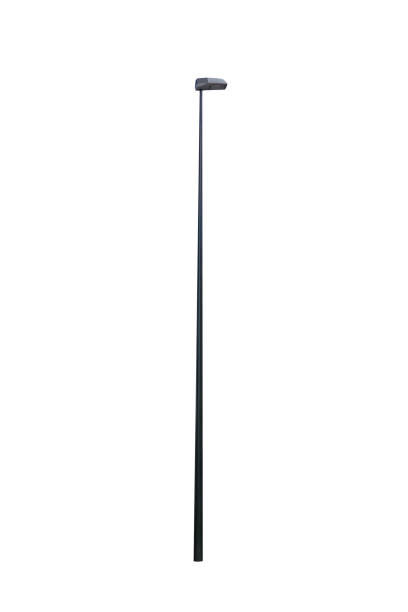light_pole: (191, 122, 205, 560)
